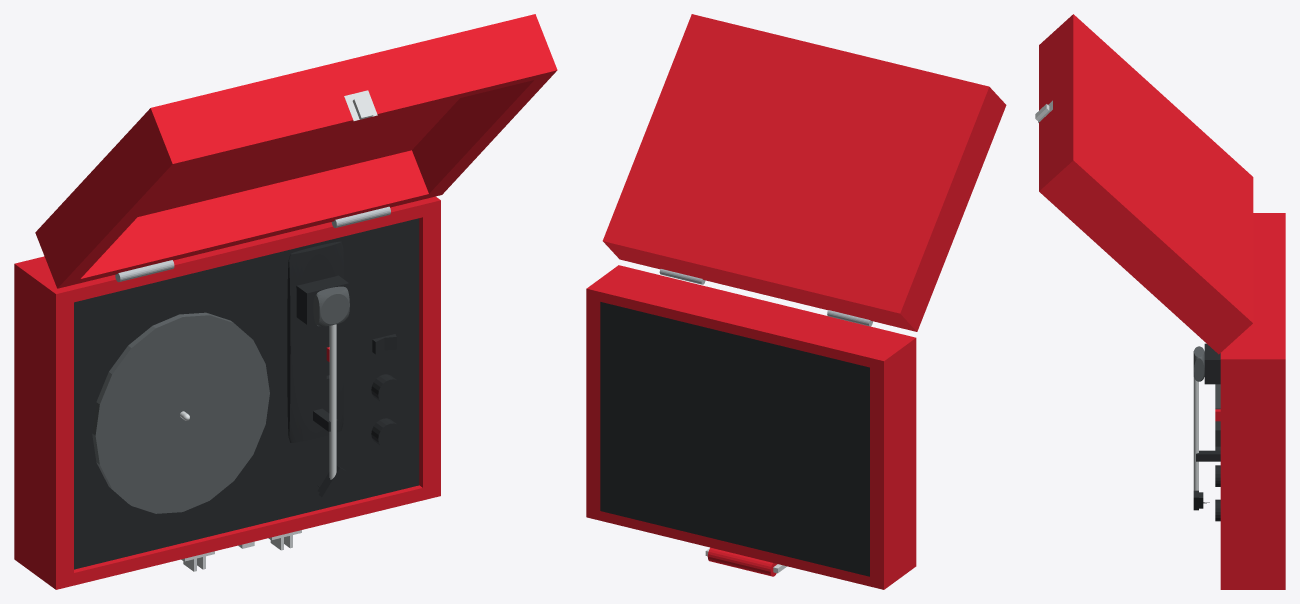
Rendered from tinker.obj.
3 renders of one model, left to right at view 1: azimuth 30°, elevation 25°; view 2: azimuth 150°, elevation 25°; view 3: azimuth 270°, elevation 25°, orthographic. The views are drawn at different scales.
Parts seen in each view (by area): view 1: group_0_15277357, group_0_2829873, group_0_6383466, group_0_14541540, group_0_12568524; view 2: group_0_15277357, group_0_2829873, group_0_12568524; view 3: group_0_15277357, group_0_2829873, group_0_14541540, group_0_6383466.
Part boxes in pixels (x1,y1,x2,y2): group_0_15277357: (14, 14, 557, 589); group_0_2829873: (74, 218, 419, 569); group_0_6383466: (92, 286, 349, 513); group_0_14541540: (180, 90, 377, 571); group_0_12568524: (115, 206, 390, 282); group_0_15277357: (586, 14, 1006, 589); group_0_2829873: (600, 302, 869, 576); group_0_12568524: (659, 269, 872, 326); group_0_15277357: (1039, 14, 1285, 589); group_0_2829873: (1193, 343, 1220, 521); group_0_14541540: (1035, 100, 1198, 490); group_0_6383466: (1193, 346, 1220, 450).
Size of the model in its own units: 64 by 91.6 by 46.29.
